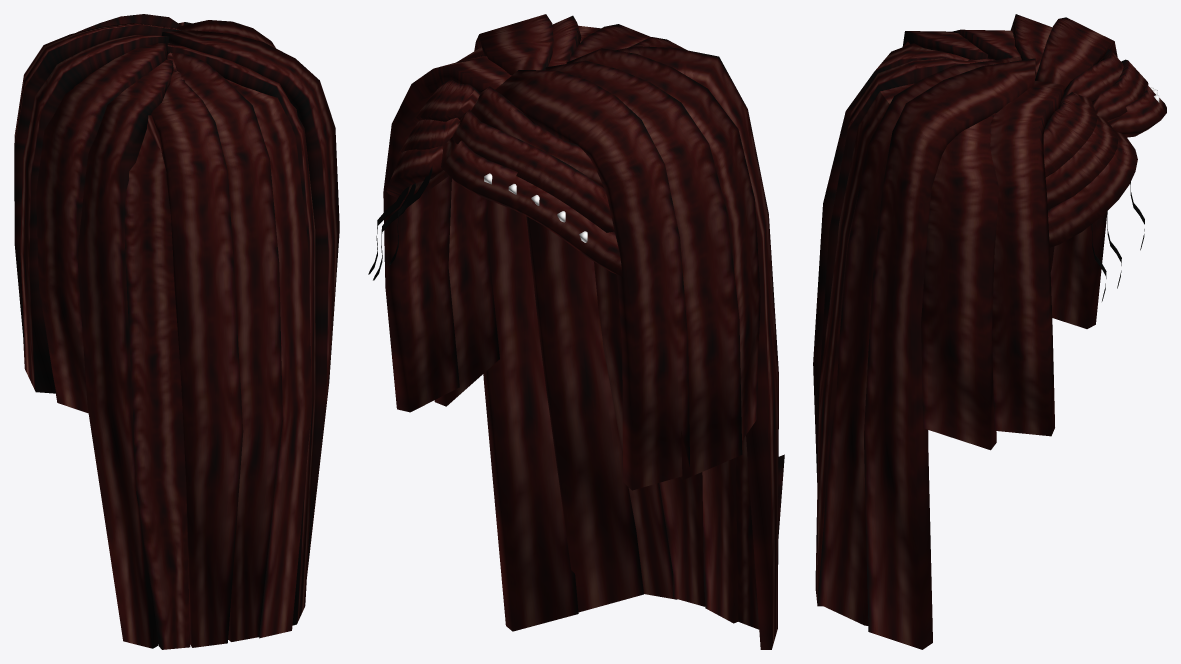
The picture shows the model from 3 angles, left to right: view 1: azimuth 30°, elevation 25°; view 2: azimuth 150°, elevation 25°; view 3: azimuth 270°, elevation 25°; orthographic projection. The views are drawn at different scales.
Visible parts, largest first — view 1: geometry_0; view 2: geometry_0; view 3: geometry_0.
Boxes of the visible parts, left/top/right/bottom form: geometry_0: left=14, top=14, right=339, bottom=649; geometry_0: left=368, top=14, right=784, bottom=649; geometry_0: left=813, top=14, right=1166, bottom=649.
Size of the model in its own units: 1.42 by 2.62 by 1.51.
Materials: 1 (1 with a texture image).
